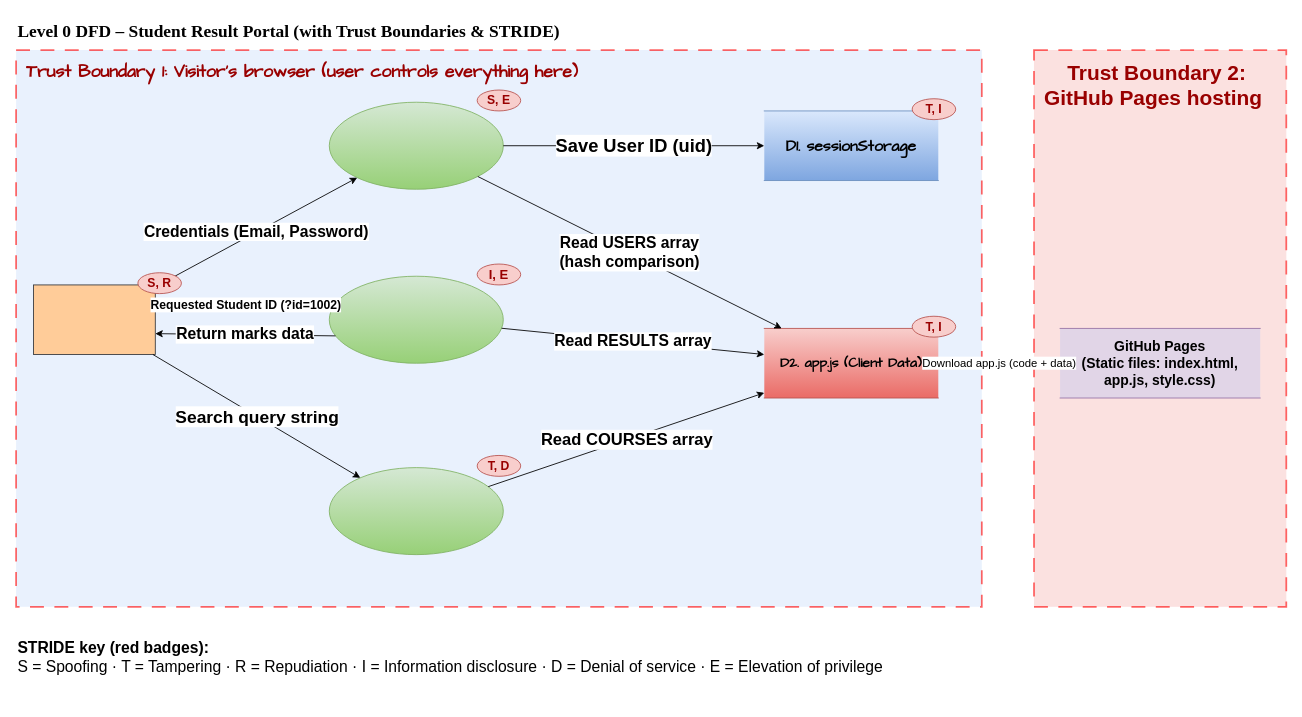
This 1302x717 diagram has some shape labels left out. Each missing label, with the centre of its shape:
"1.0 Authenticate User" belongs at (415,145).
"2.0 View Result" belongs at (415,319).
"3.0 Search Courses" belongs at (415,511).
"Visitor / Attacker" belongs at (94,319).
